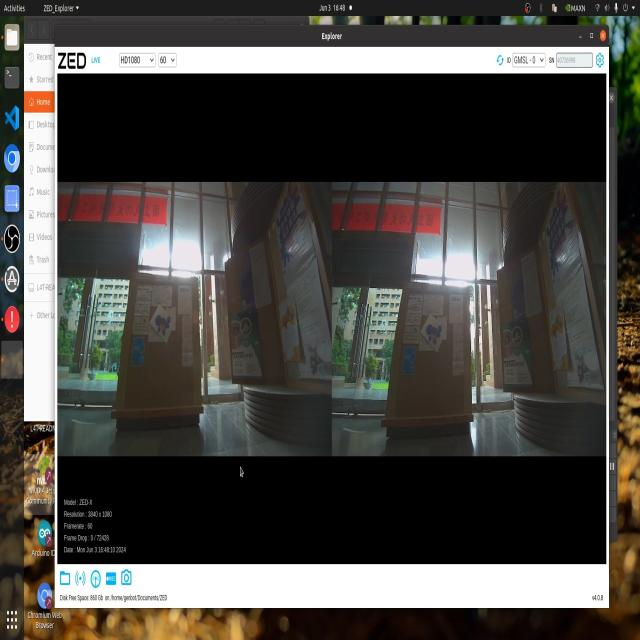blue: (421, 322, 448, 354), (158, 313, 177, 342)
